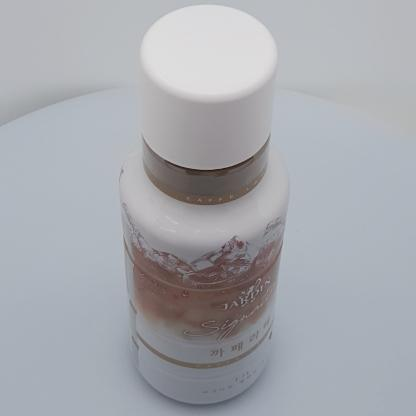----------1-1L: (118, 4, 290, 405)
